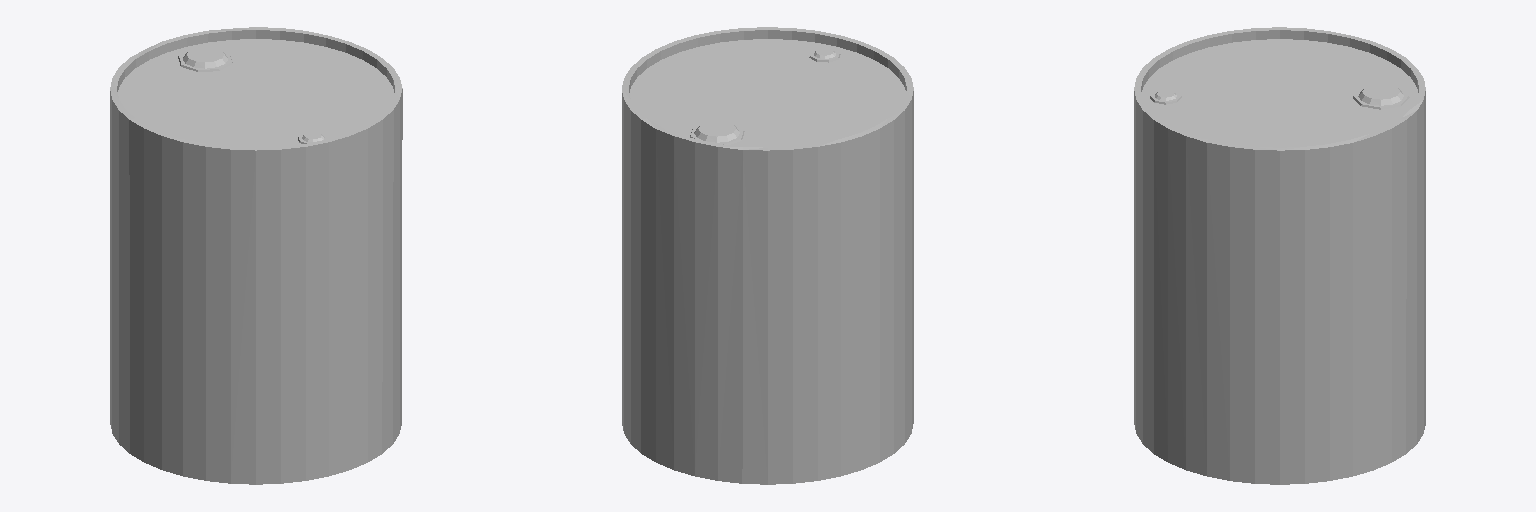
File: barrel.obj
3 renders of one model, left to right at view 1: azimuth 30°, elevation 25°; view 2: azimuth 150°, elevation 25°; view 3: azimuth 270°, elevation 25°, orthographic.
Size of the model in its own units: 1.66 by 2.1 by 1.66.